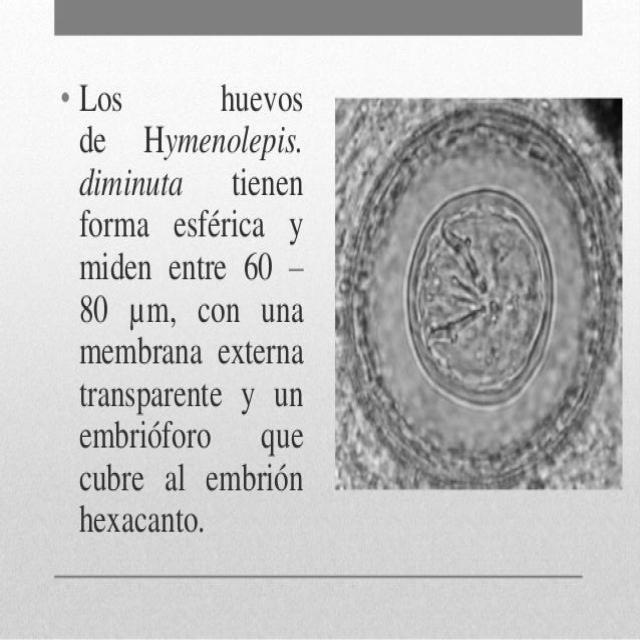Hymenolepis: (336, 100, 620, 491)
